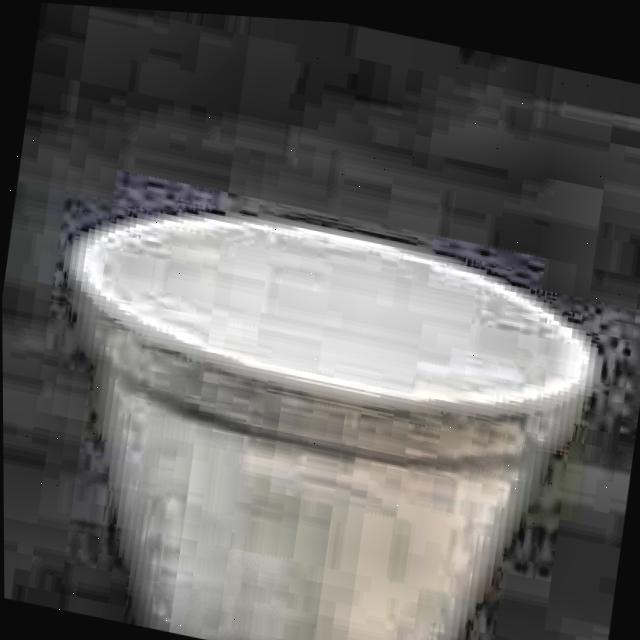paper: (9, 159, 609, 640)
